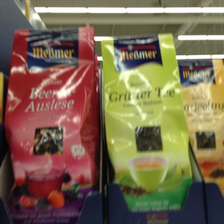tea: (6, 26, 100, 224), (100, 35, 193, 213), (178, 57, 224, 192)
